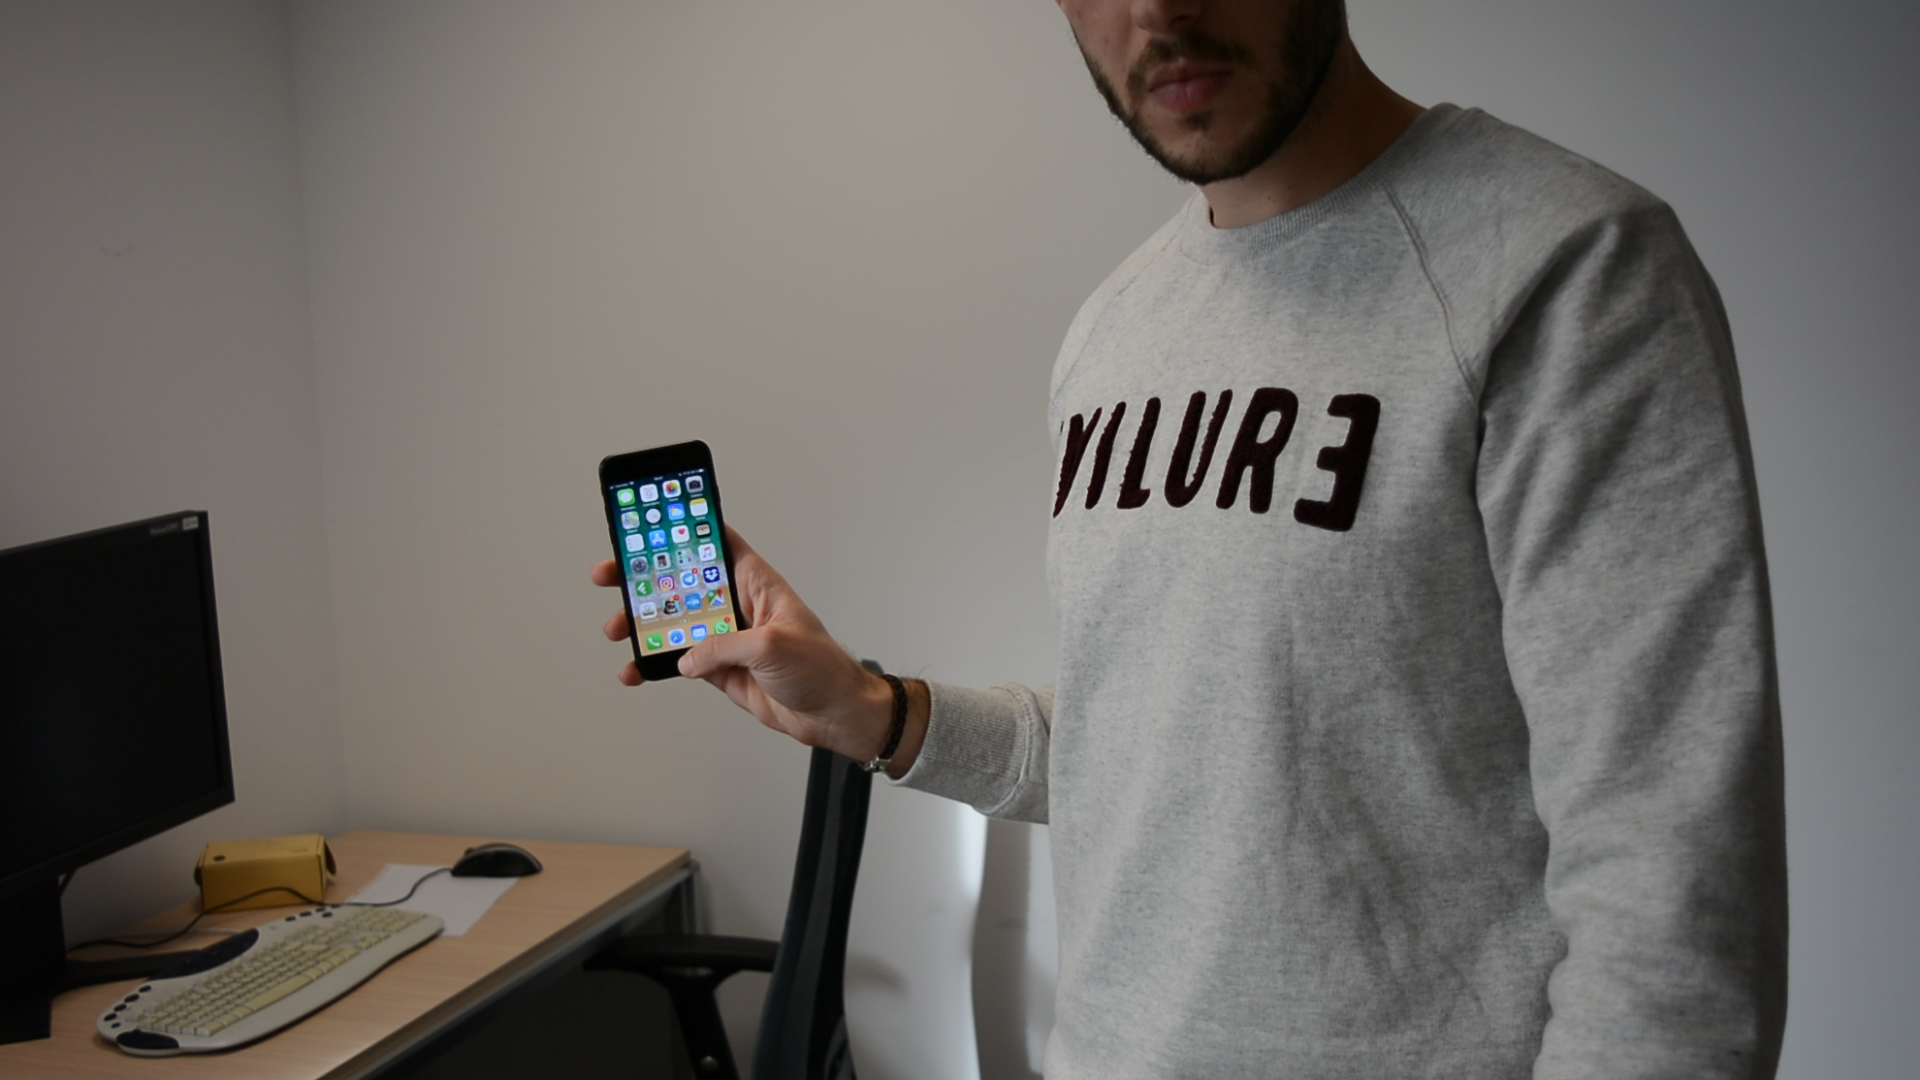smartphone: (597, 438, 746, 683)
